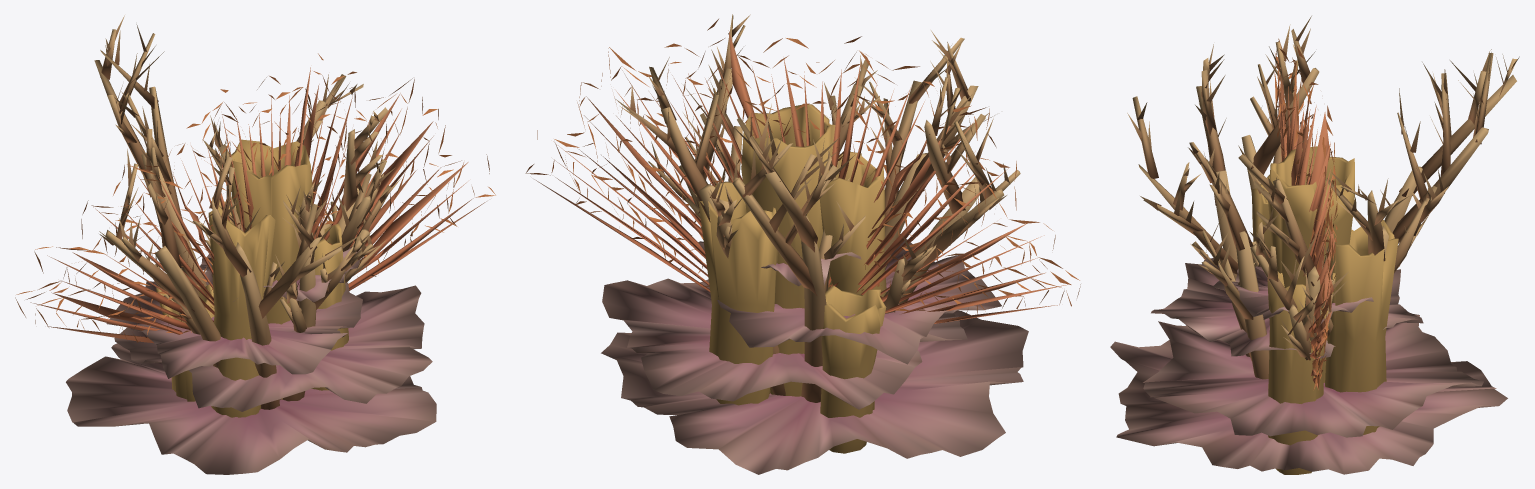
Rendered from reef-kit-far.glb.
The picture shows the model from 3 angles, left to right: view 1: azimuth 30°, elevation 25°; view 2: azimuth 150°, elevation 25°; view 3: azimuth 270°, elevation 25°; orthographic projection. The views are drawn at different scales.
Parts seen in each view (by area): view 1: coral_table, coral_antler, coral_fan, sponge_cluster; view 2: coral_table, coral_antler, sponge_cluster, coral_fan; view 3: coral_table, coral_antler, sponge_cluster, coral_fan.
Boxes of the visible parts, x1,y1,x2,y2 form: coral_table: (66, 246, 436, 474); coral_antler: (94, 15, 401, 409); coral_fan: (15, 53, 495, 343); sponge_cluster: (156, 139, 348, 417); coral_table: (601, 234, 1028, 474); coral_antler: (615, 14, 1020, 402); sponge_cluster: (698, 104, 886, 453); coral_fan: (525, 19, 1080, 323); coral_table: (1110, 258, 1507, 474); coral_antler: (1127, 16, 1519, 379); sponge_cluster: (1251, 146, 1398, 474); coral_fan: (1274, 38, 1337, 390).
Size of the model in its own units: 7.99 by 5.52 by 5.48.
